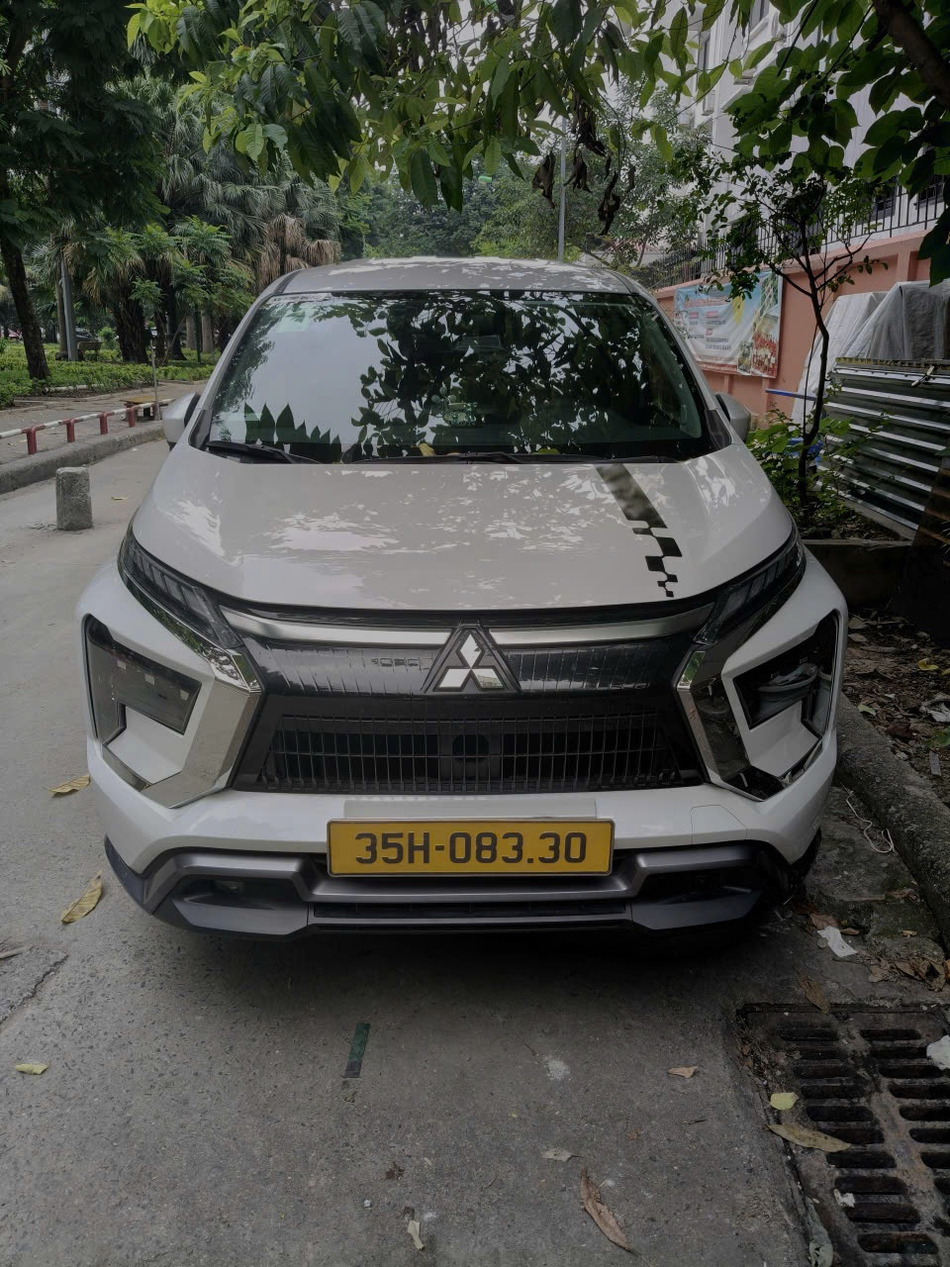plate: (172, 901, 312, 936)
